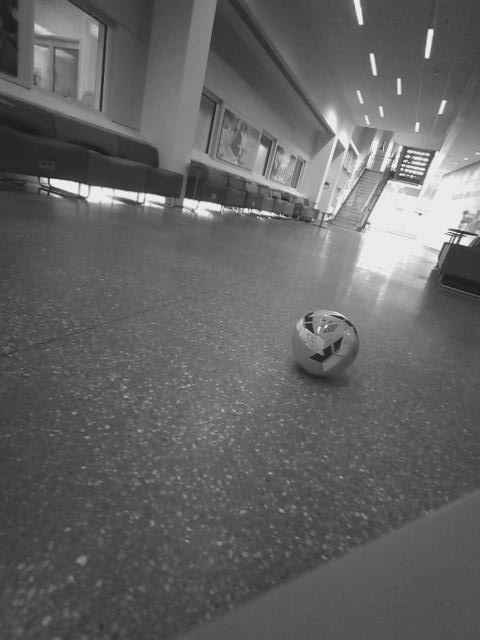ball: (287, 305, 363, 382)
